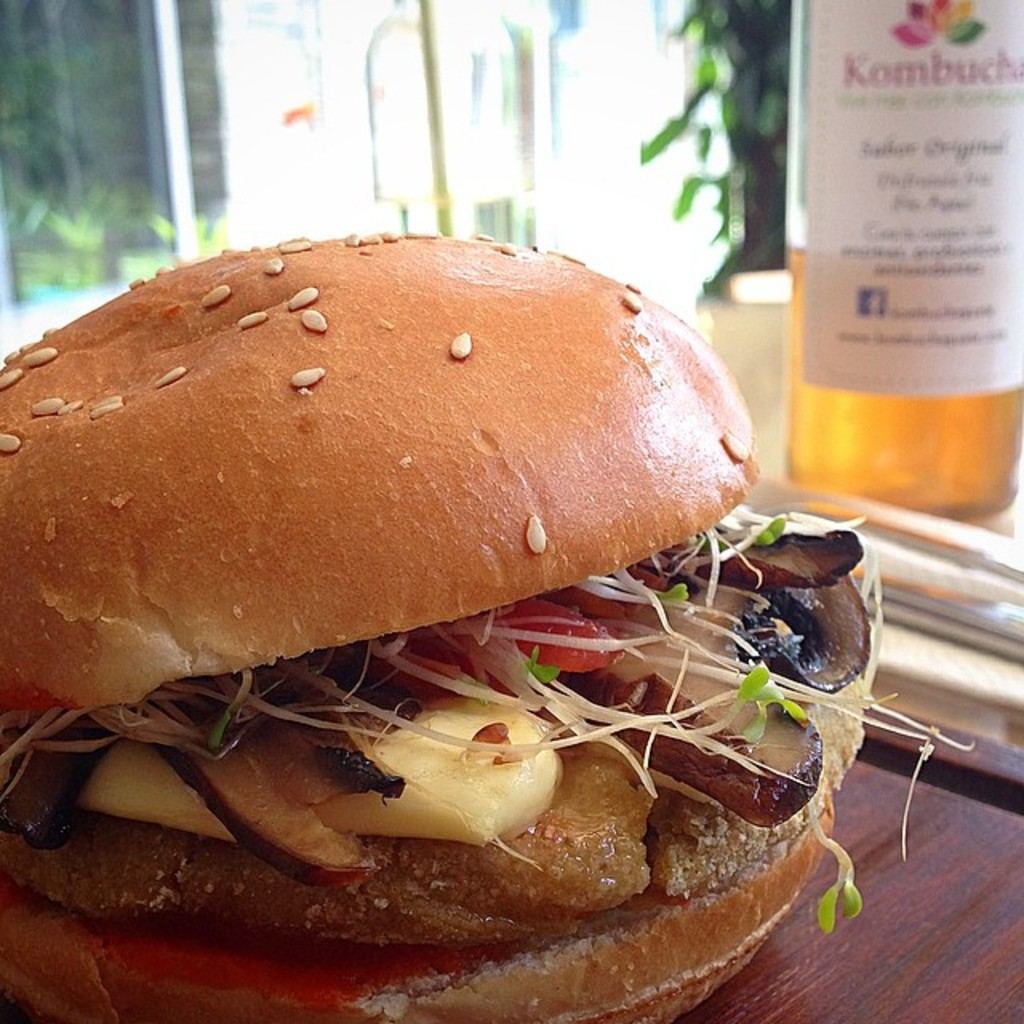Hamburger: (0, 228, 976, 1022)
